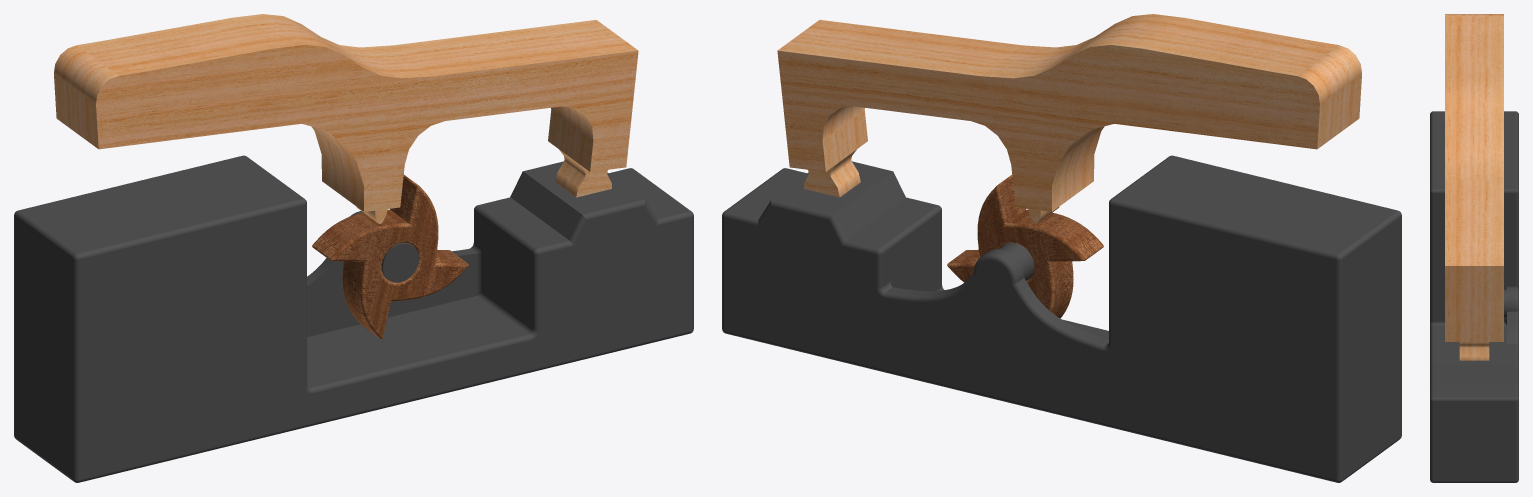
The model's file is TiltHammer.24.dae.
3 renders of one model, left to right at view 1: azimuth 30°, elevation 25°; view 2: azimuth 150°, elevation 25°; view 3: azimuth 270°, elevation 25°, orthographic. The views are drawn at different scales.
Visible parts, largest first — view 1: Actor2, Actor0, Actor1; view 2: Actor2, Actor0, Actor1; view 3: Actor0, Actor2.
Boxes of the visible parts, x1=… form: Actor2: x1=14, y1=155, x2=693, y2=482; Actor0: x1=54, y1=14, x2=638, y2=223; Actor1: x1=312, y1=174, x2=468, y2=338; Actor2: x1=722, y1=155, x2=1401, y2=482; Actor0: x1=777, y1=14, x2=1361, y2=223; Actor1: x1=947, y1=174, x2=1103, y2=318; Actor0: x1=1445, y1=14, x2=1503, y2=360; Actor2: x1=1430, y1=111, x2=1518, y2=482.
Bounding box in the file's own units: 0.425 × 0.2544 × 0.075.
